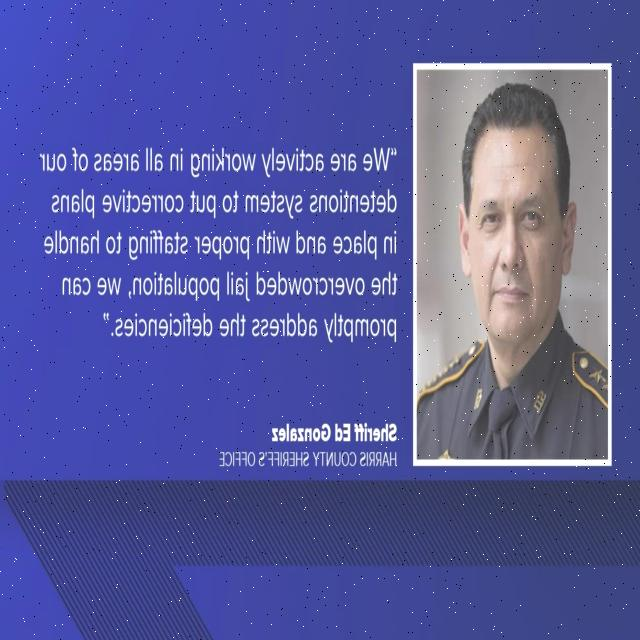police: (420, 96, 611, 453)
